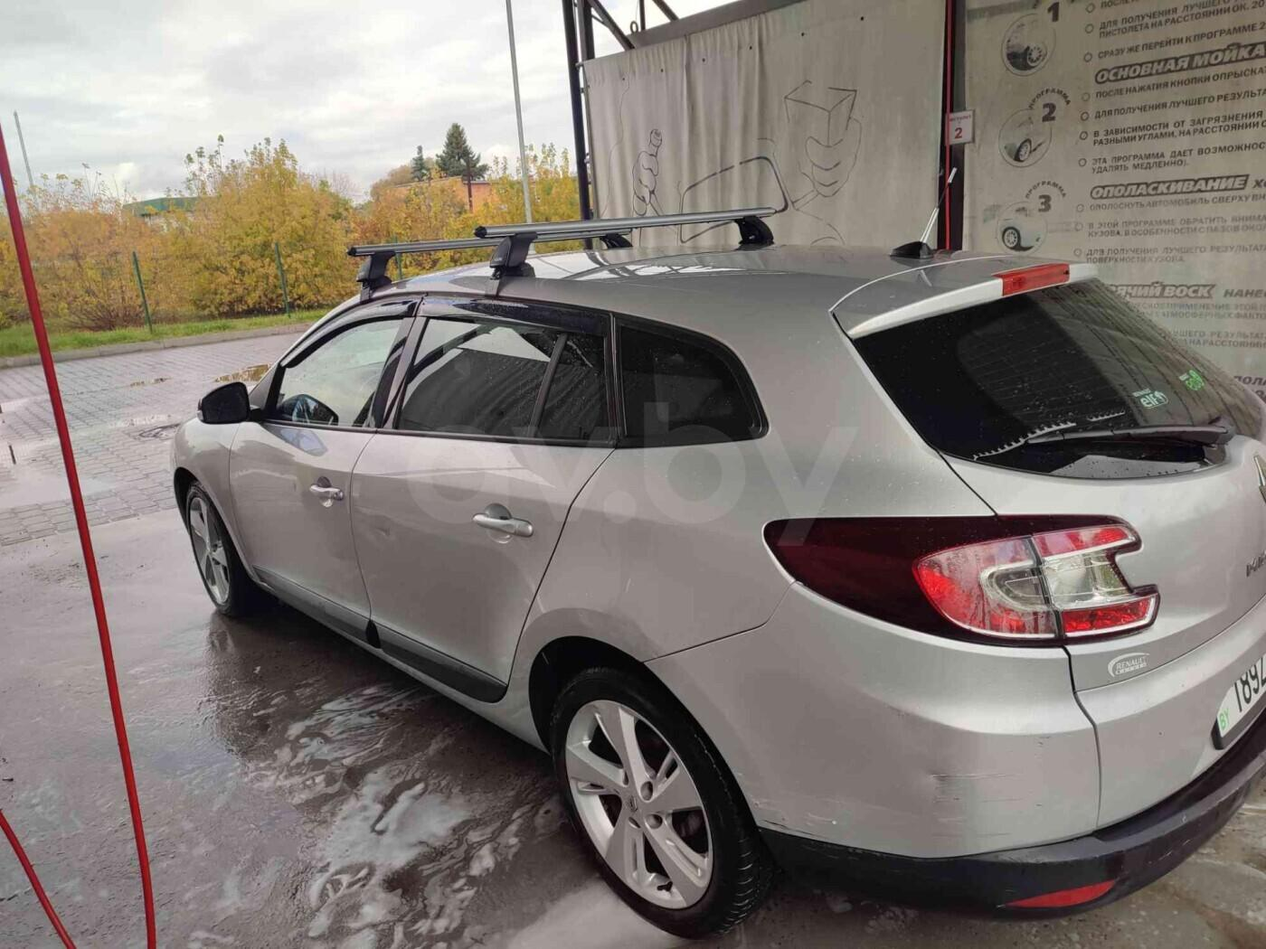Megane_2008-2014: (178, 252, 1266, 931)
